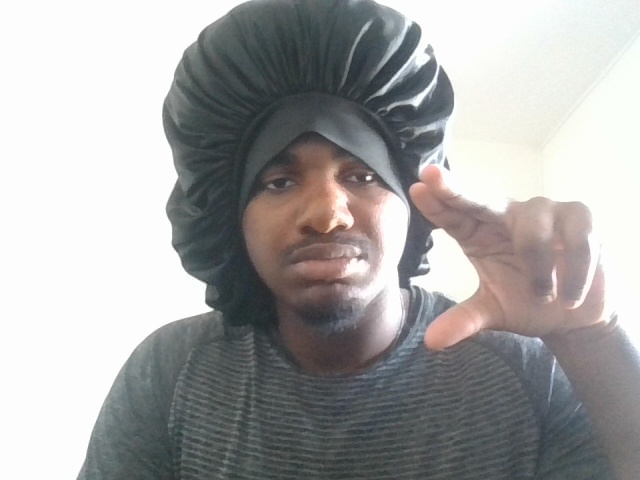No: (393, 152, 640, 356)
